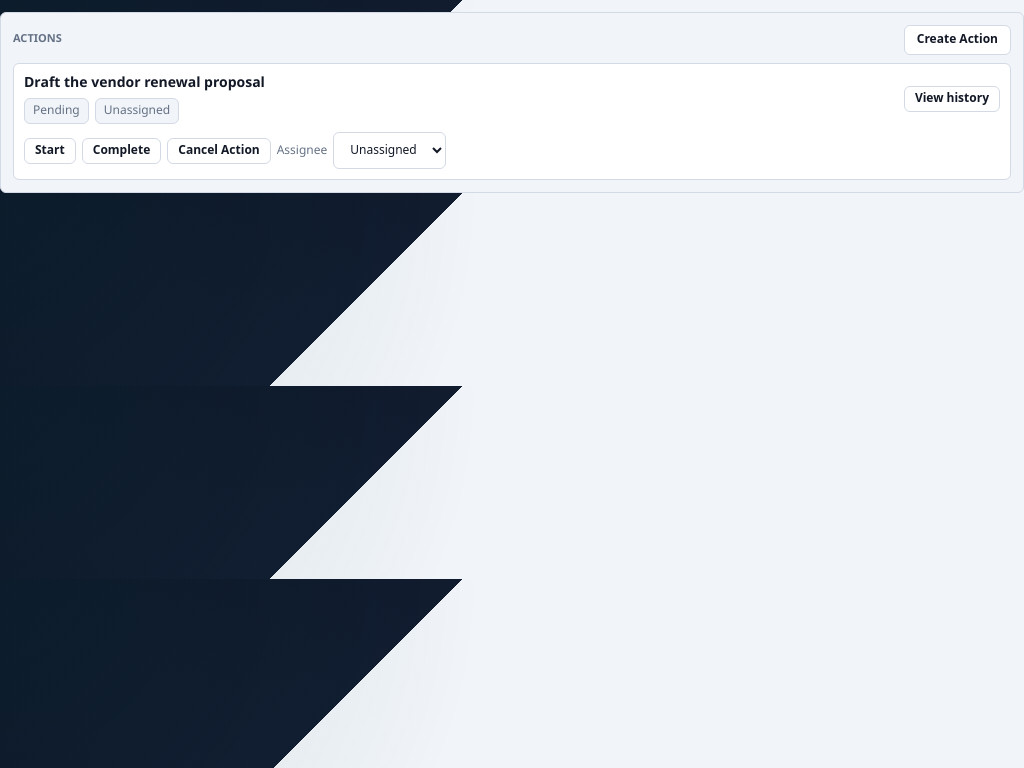
Test case: Actions panel - detail / history › resolves a known actor's name and falls back safely for an unknown actor - never a raw UUID
Expected: the text "Draft the vendor renewal proposal" is shown, x1=24 y1=74 x2=265 y2=94
Step 1. Click the button "View history" → (952, 99), box x1=904 y1=86 x2=1000 y2=112
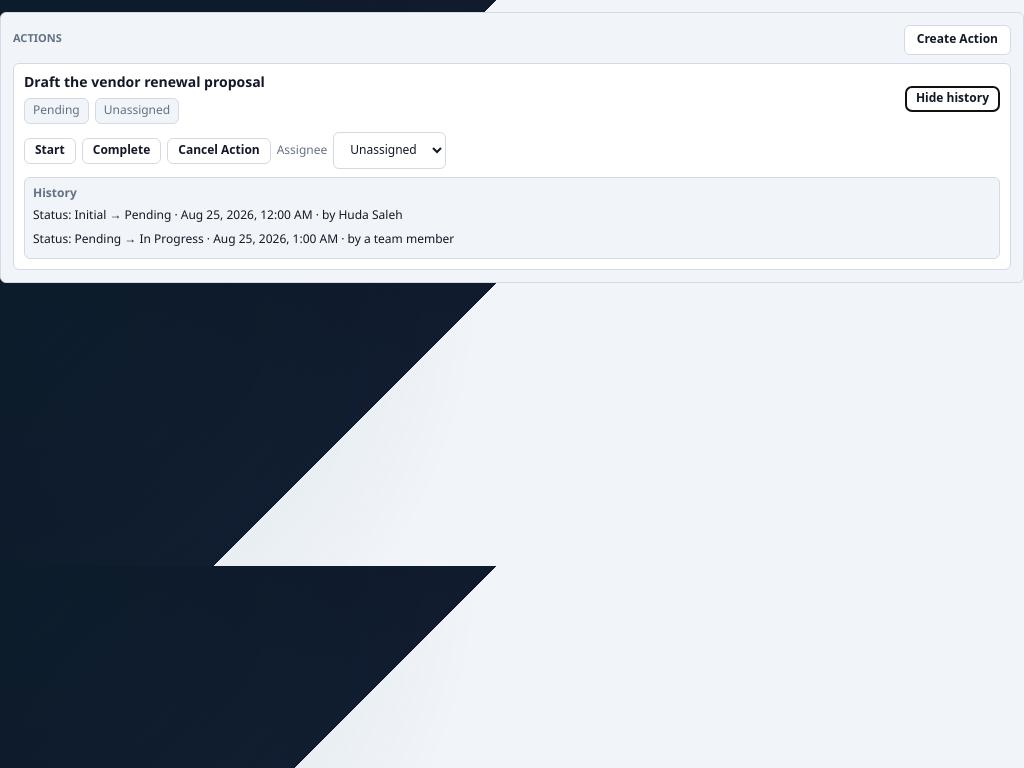
Expected: the text "by Huda Saleh" is shown, x1=322 y1=203 x2=402 y2=228
Expected: the text "by a team member" is shown, x1=348 y1=227 x2=454 y2=252
